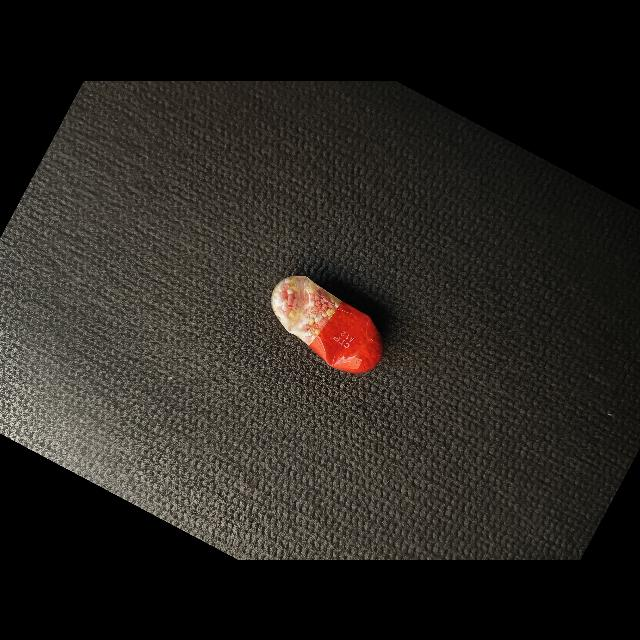Defective Capsule: (271, 275, 384, 373)
